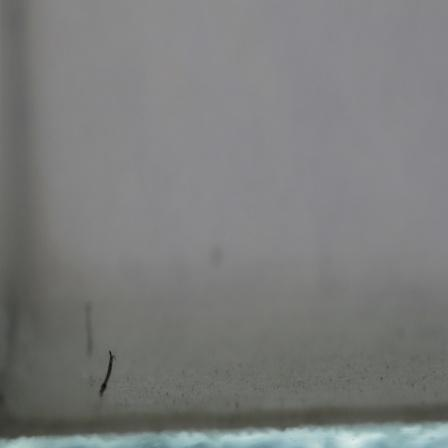Jentik-Nyamuk: (93, 349, 117, 400)
